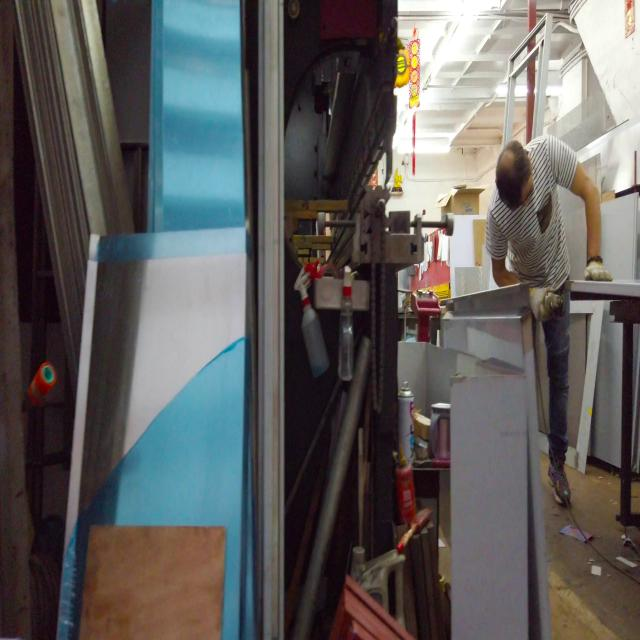gloved: (529, 286, 562, 322), (584, 255, 612, 282)
